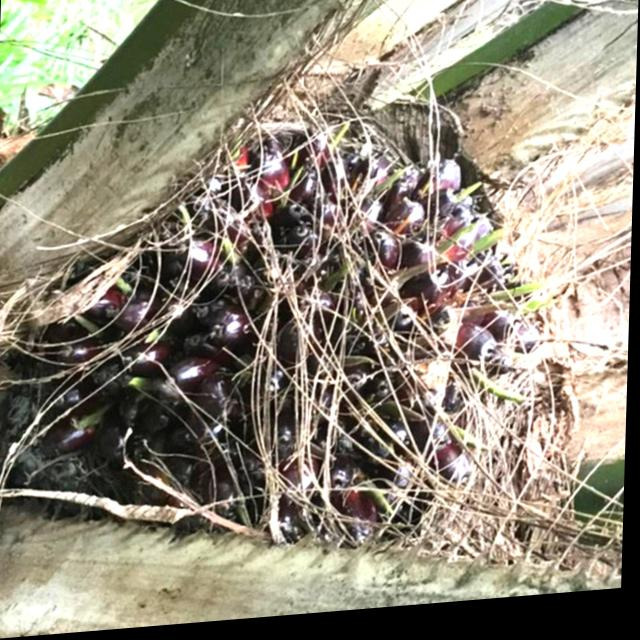ripe: (2, 63, 593, 610)
